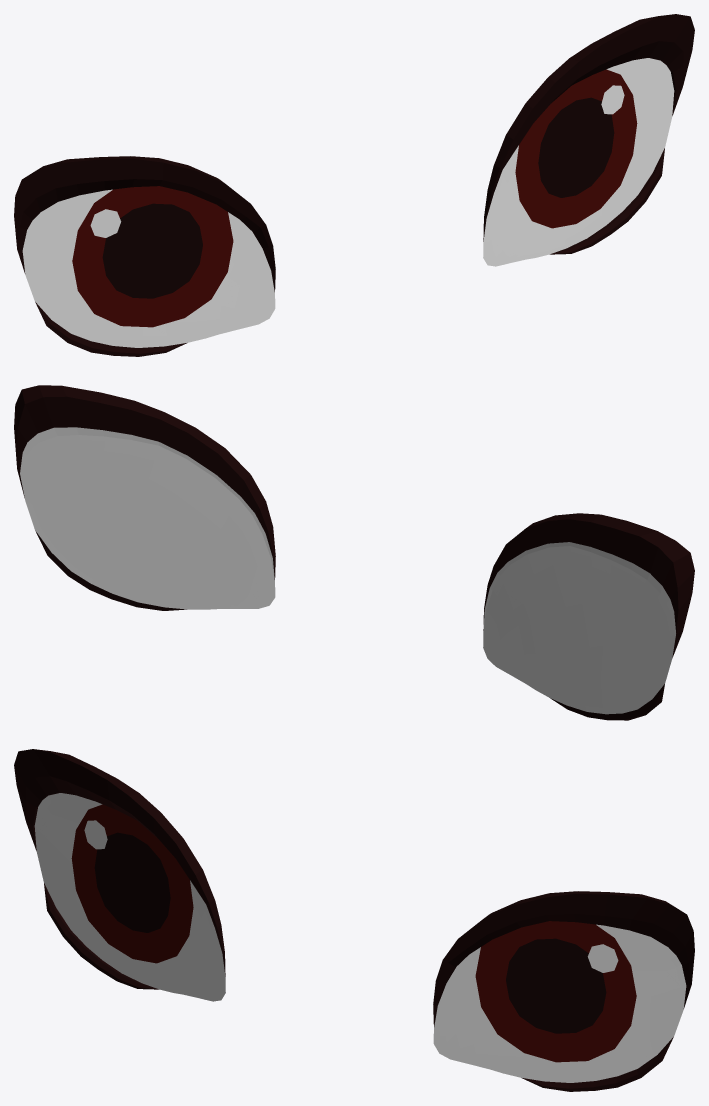
Rendered from eyes_relaxed.glb.
The picture shows the model from 3 angles, top to bottom: view 1: azimuth 30°, elevation 25°; view 2: azimuth 150°, elevation 25°; view 3: azimuth 330°, elevation 25°; orthographic projection.
Visible parts, largest first — view 1: Feminine Almond; view 2: Feminine Almond; view 3: Feminine Almond.
Part boxes in pixels (x1,y1,x2,y2): Feminine Almond: [14, 14, 694, 356]; Feminine Almond: [14, 385, 694, 720]; Feminine Almond: [14, 749, 694, 1091].
Size of the model in its own units: 0.2395 by 0.0697 by 0.0215.
